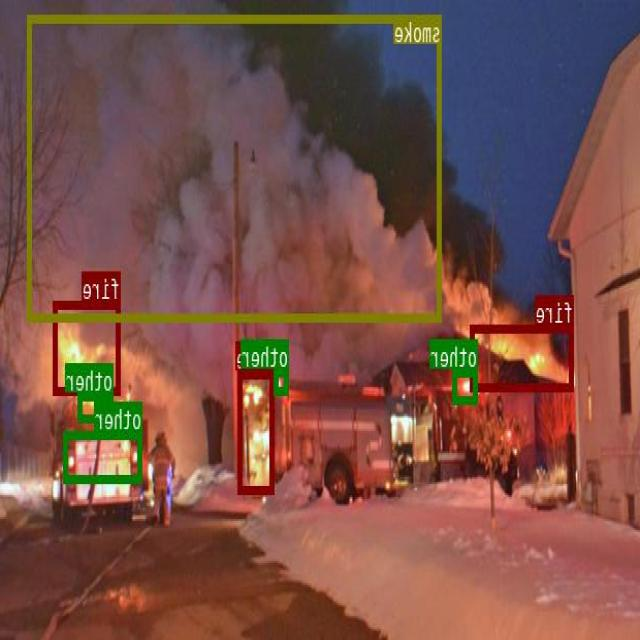fire: (472, 324, 574, 389), (54, 300, 122, 393), (239, 369, 275, 493)
other: (65, 430, 143, 482), (79, 392, 114, 420), (454, 367, 478, 402), (275, 367, 290, 393)
smoke: (29, 15, 442, 319)
